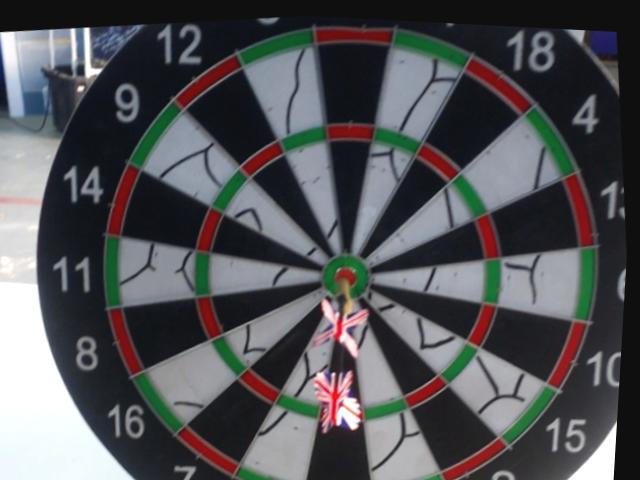bullseye: (334, 264, 361, 293)
